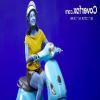motorcycles: (14, 48, 68, 100)
